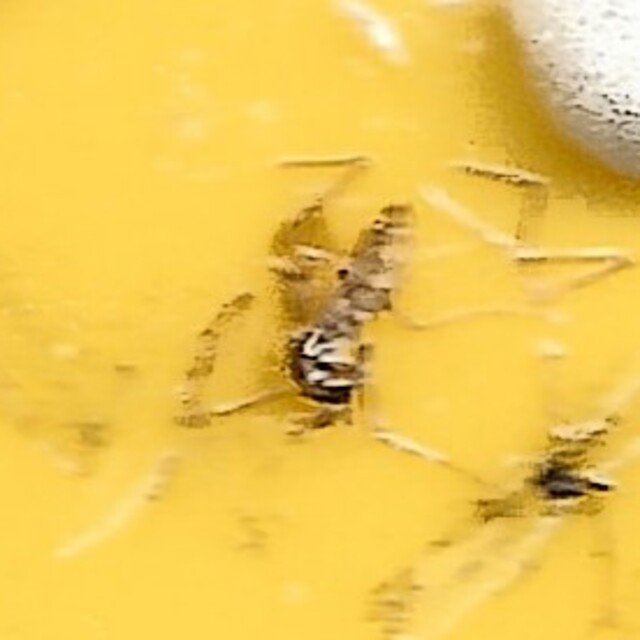Nematocera: (232, 201, 408, 439)
